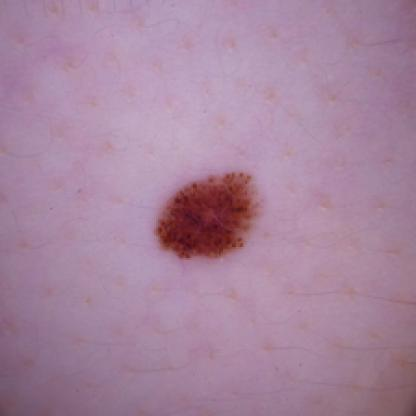benign: (148, 164, 268, 256)
